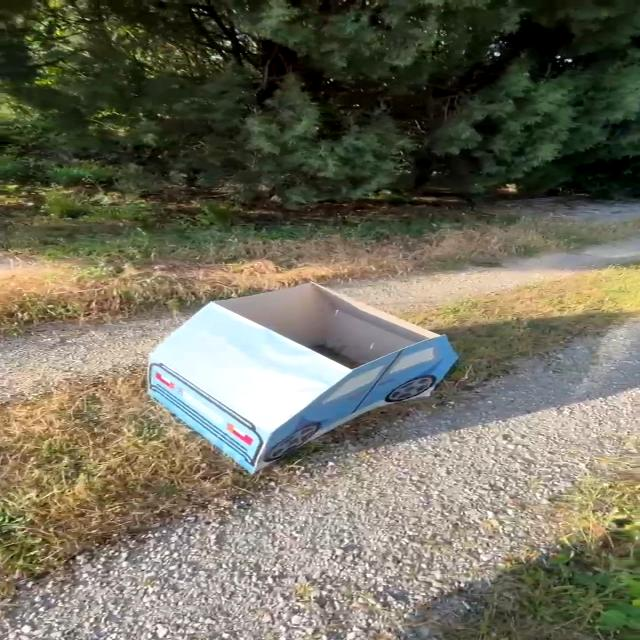blue_car: (120, 257, 484, 495)
